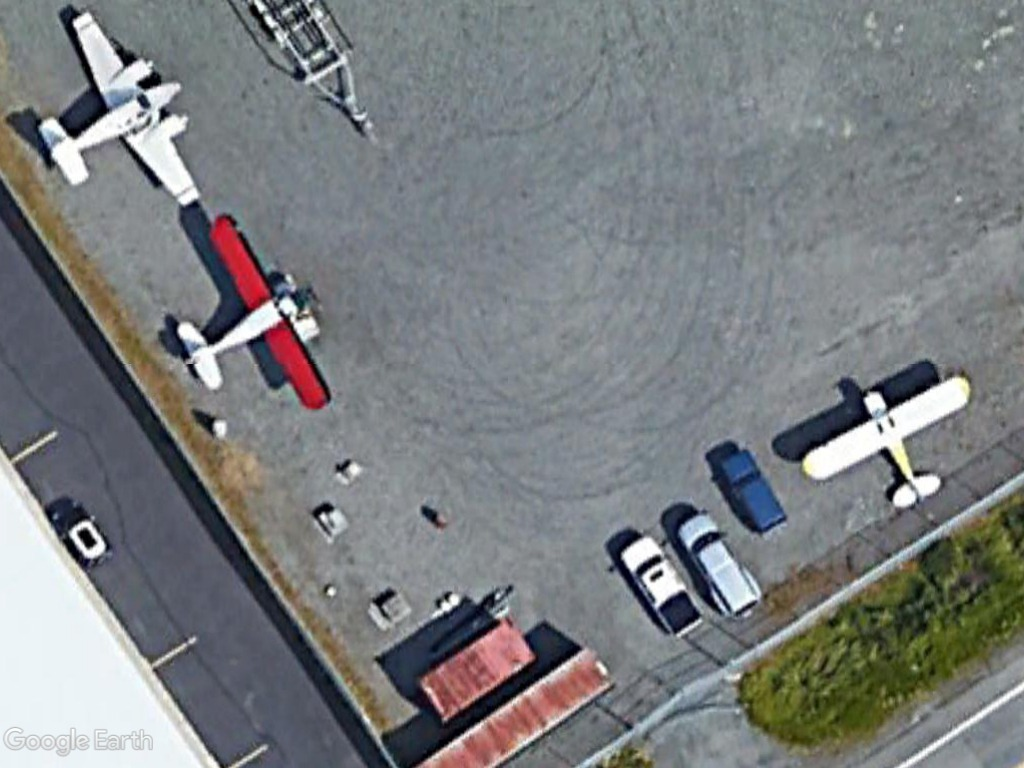car: (718, 444, 789, 538)
other: (618, 531, 704, 646)
trainer: (160, 206, 337, 416), (38, 6, 202, 212), (799, 370, 973, 515)
van: (674, 512, 760, 626)
